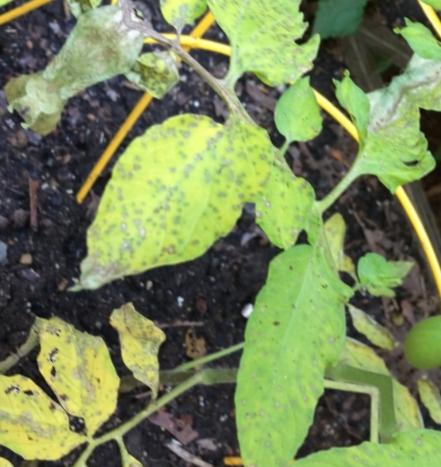Tomato Septoria leaf spot: (19, 64, 310, 338), (142, 210, 440, 467), (285, 40, 441, 220), (2, 292, 152, 451), (166, 0, 361, 113), (231, 144, 340, 253)
